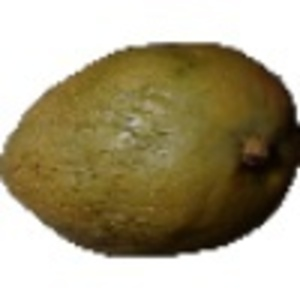mamão: (3, 35, 297, 261)
